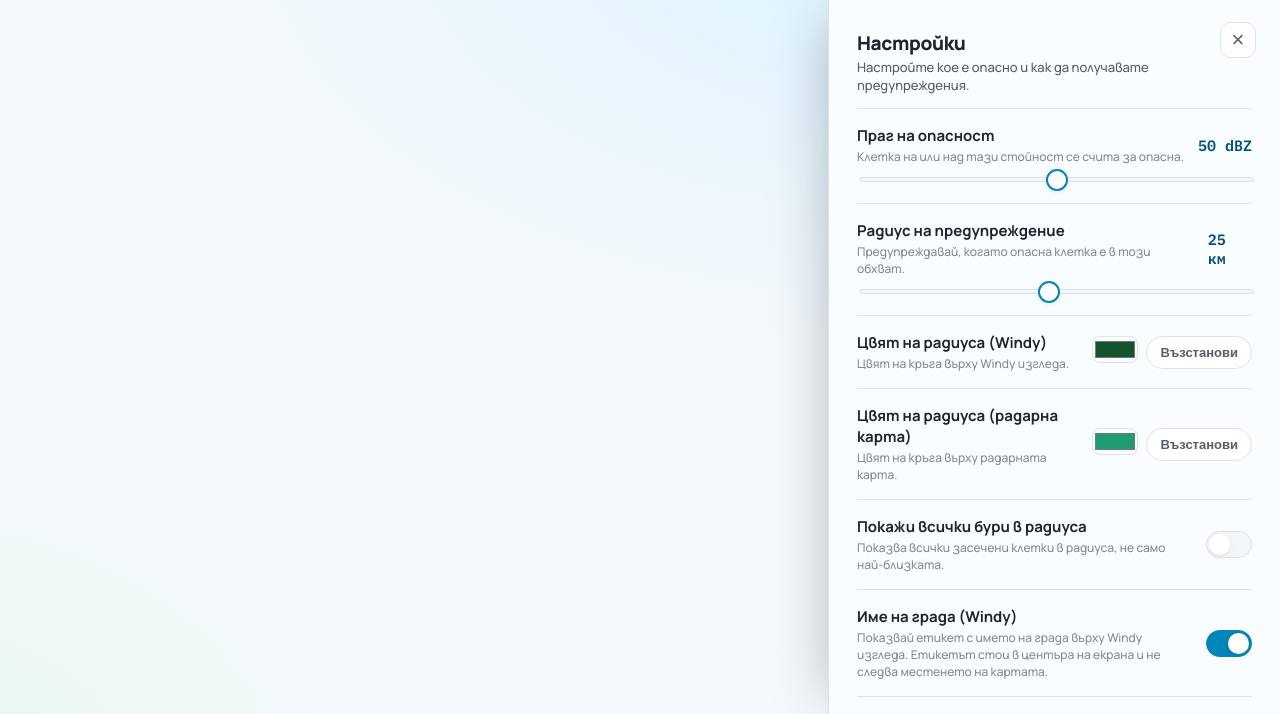
SettingsSheet – radius circle colours › the map reset returns only the map colour to its default
Type "#112233" into the colour field named "Цвят на радиуса (Windy)" at (1115, 349), box [1092, 336, 1138, 362]
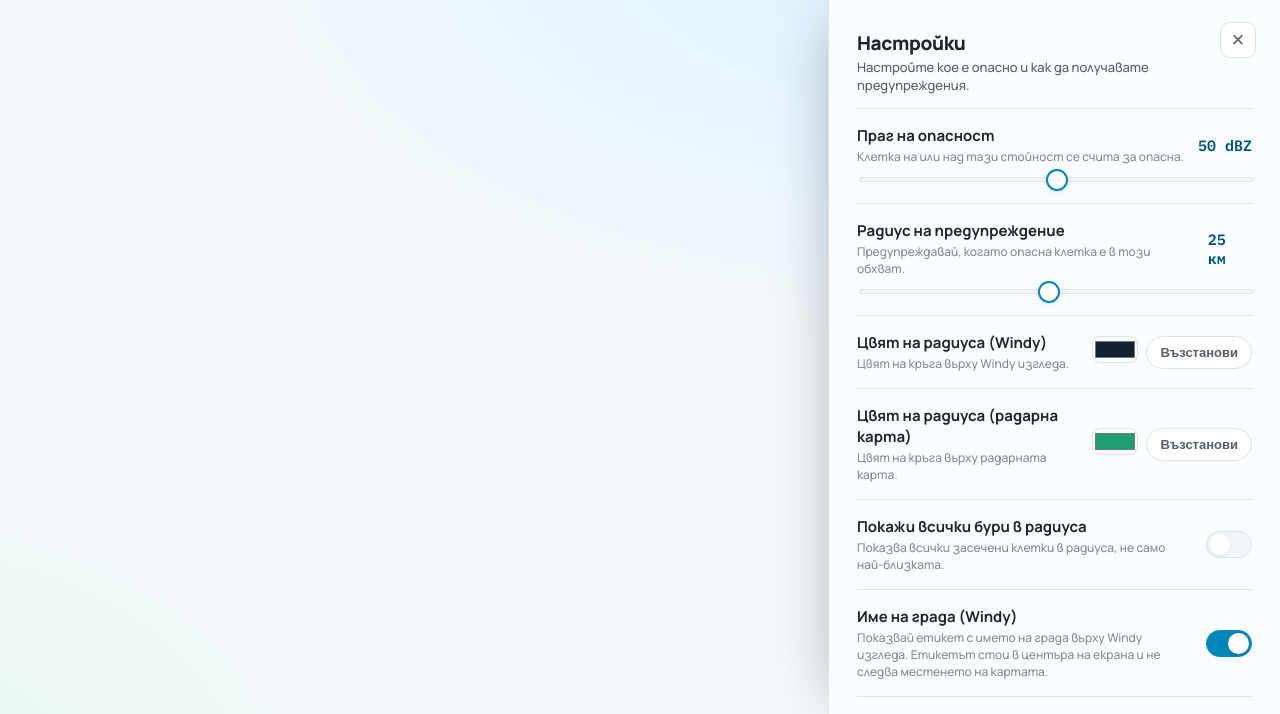
Type "#aabbcc" into the colour field named "Цвят на радиуса (радарна карта)" at (1115, 441), box [1092, 428, 1138, 454]
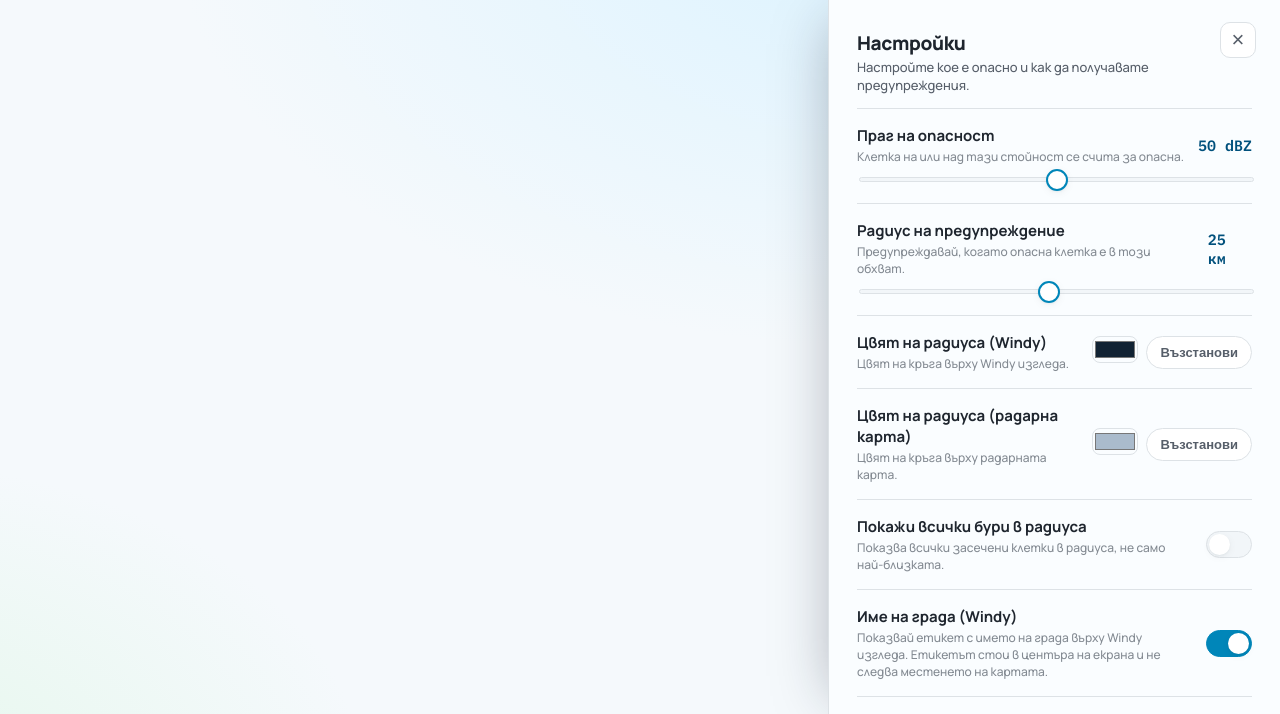
Click the button "Възстанови" next to "Цвят на кръга върху радарната карта." at (1199, 444), box [1146, 428, 1252, 460]
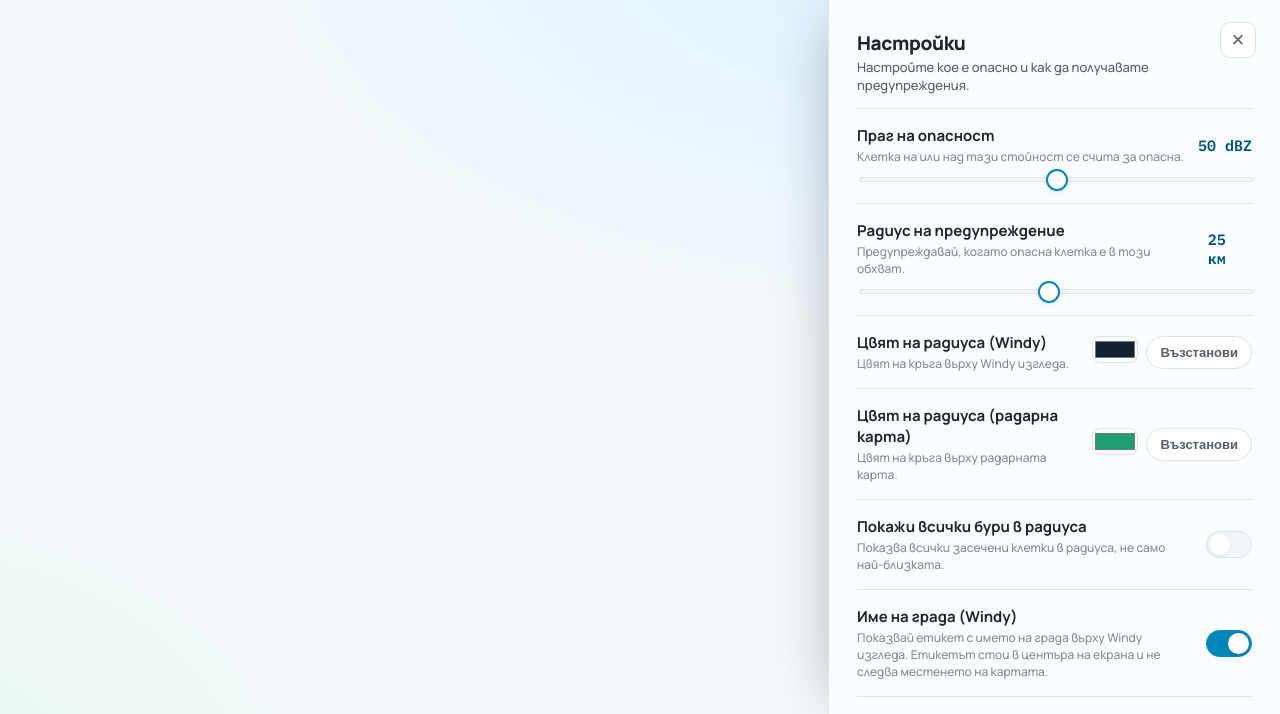
Expected: the colour field named "Цвят на радиуса (радарна карта)" holds "#1f9d72", [1092, 428, 1138, 454]
